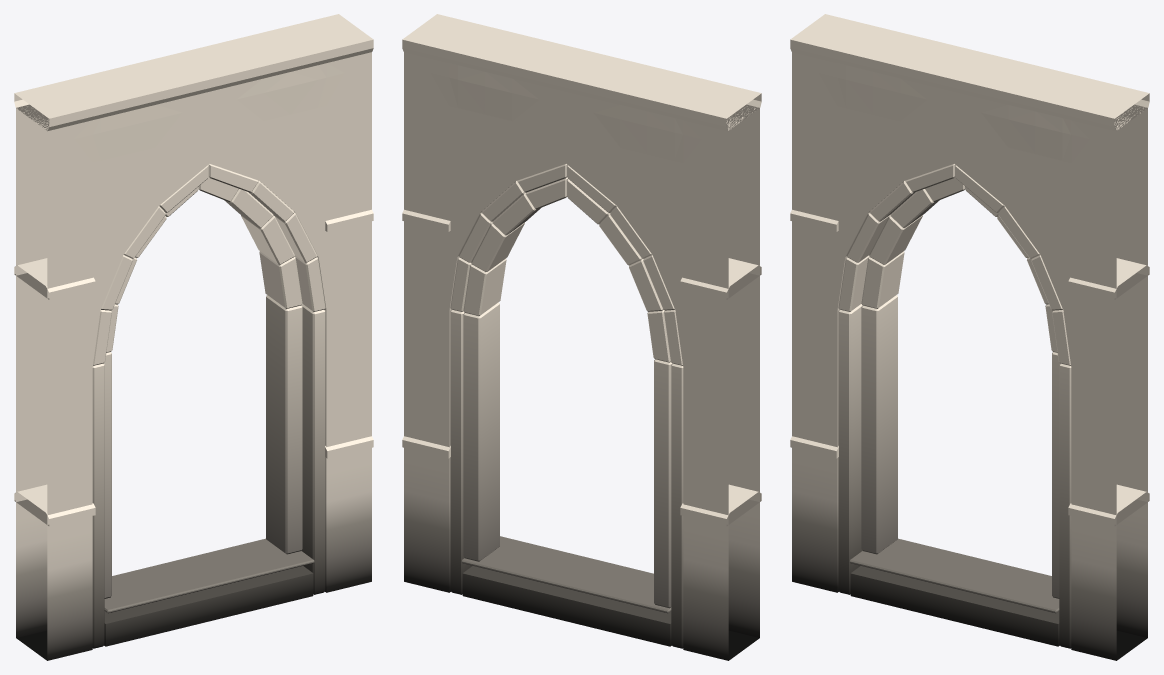
The model's file is SM_VKI_Wall_Ashlar_DoorWide_300_Full.fbx.
3 renders of one model, left to right at view 1: azimuth 30°, elevation 25°; view 2: azimuth 150°, elevation 25°; view 3: azimuth 330°, elevation 25°, orthographic.
Visible parts, largest first — view 1: SM_VKI_Wall_Ashlar_DoorWide_300_Full.001; view 2: SM_VKI_Wall_Ashlar_DoorWide_300_Full.001; view 3: SM_VKI_Wall_Ashlar_DoorWide_300_Full.001.
Part boxes in pixels (bbox=[...]): SM_VKI_Wall_Ashlar_DoorWide_300_Full.001: bbox=[14, 14, 373, 660]; SM_VKI_Wall_Ashlar_DoorWide_300_Full.001: bbox=[402, 14, 761, 660]; SM_VKI_Wall_Ashlar_DoorWide_300_Full.001: bbox=[790, 14, 1149, 660].
Size of the model in its own units: 3 by 4.8 by 0.56.
